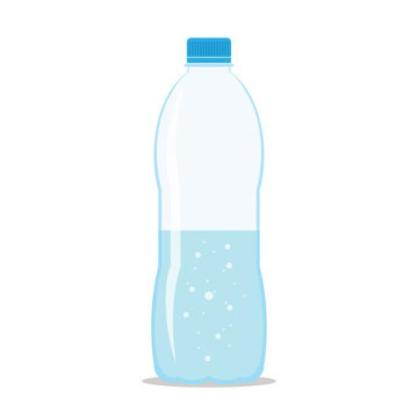bottle: (138, 34, 272, 388)
cap: (181, 32, 240, 70)
